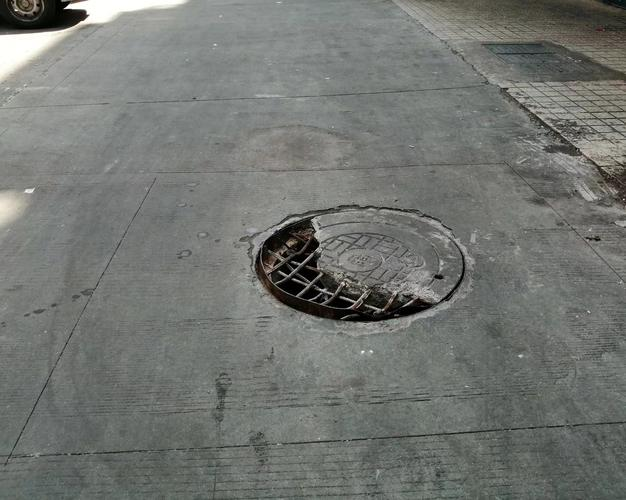broke: (212, 178, 506, 359)
